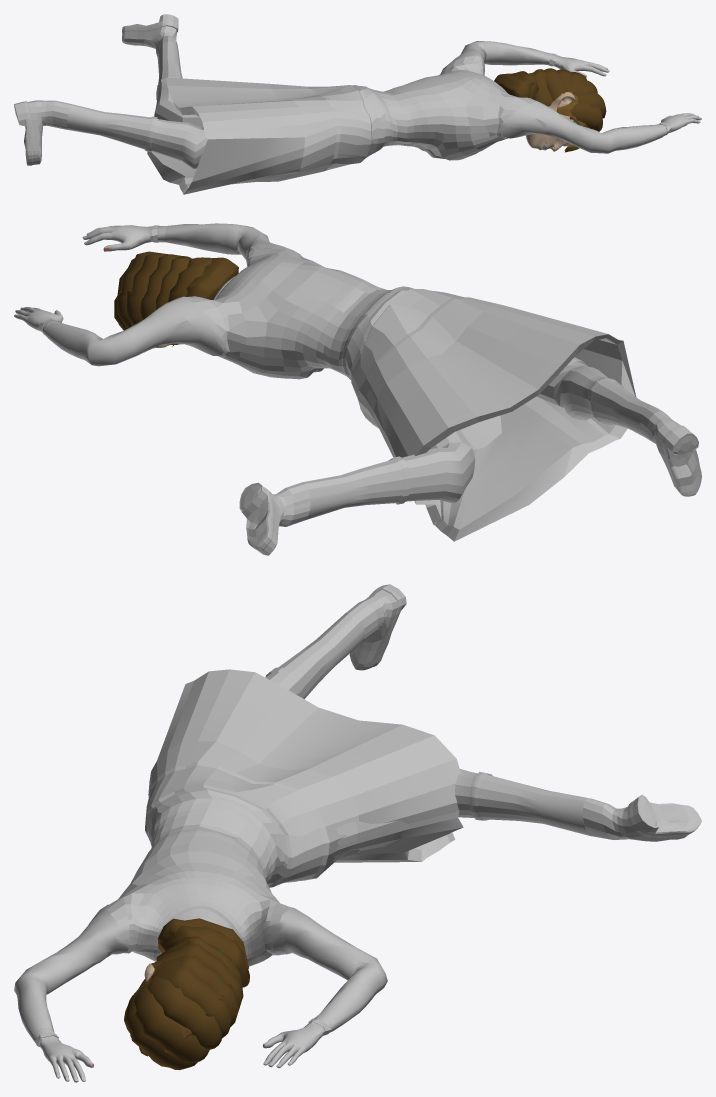
Rendered from DeadSister.fbx.
The picture shows the model from 3 angles, top to bottom: view 1: azimuth 30°, elevation 25°; view 2: azimuth 150°, elevation 25°; view 3: azimuth 270°, elevation 25°; orthographic projection. The views are drawn at different scales.
Parts seen in each view (by area): view 1: pSphere3; view 2: pSphere3; view 3: pSphere3.
Boxes of the visible parts, x1=… form: pSphere3: x1=14, y1=14, x2=701, y2=194; pSphere3: x1=14, y1=223, x2=701, y2=555; pSphere3: x1=14, y1=584, x2=701, y2=1082.
Size of the model in its own units: 162 by 29.19 by 118.
